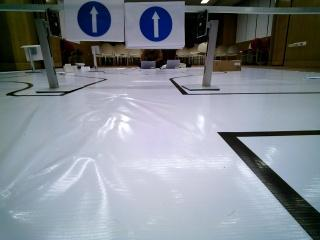straight: (126, 6, 186, 46), (65, 3, 120, 37)
